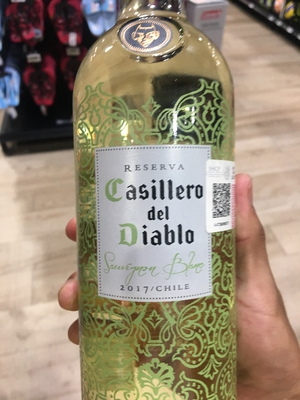casillero del diablo sauvignon blanc: (67, 14, 246, 400)
